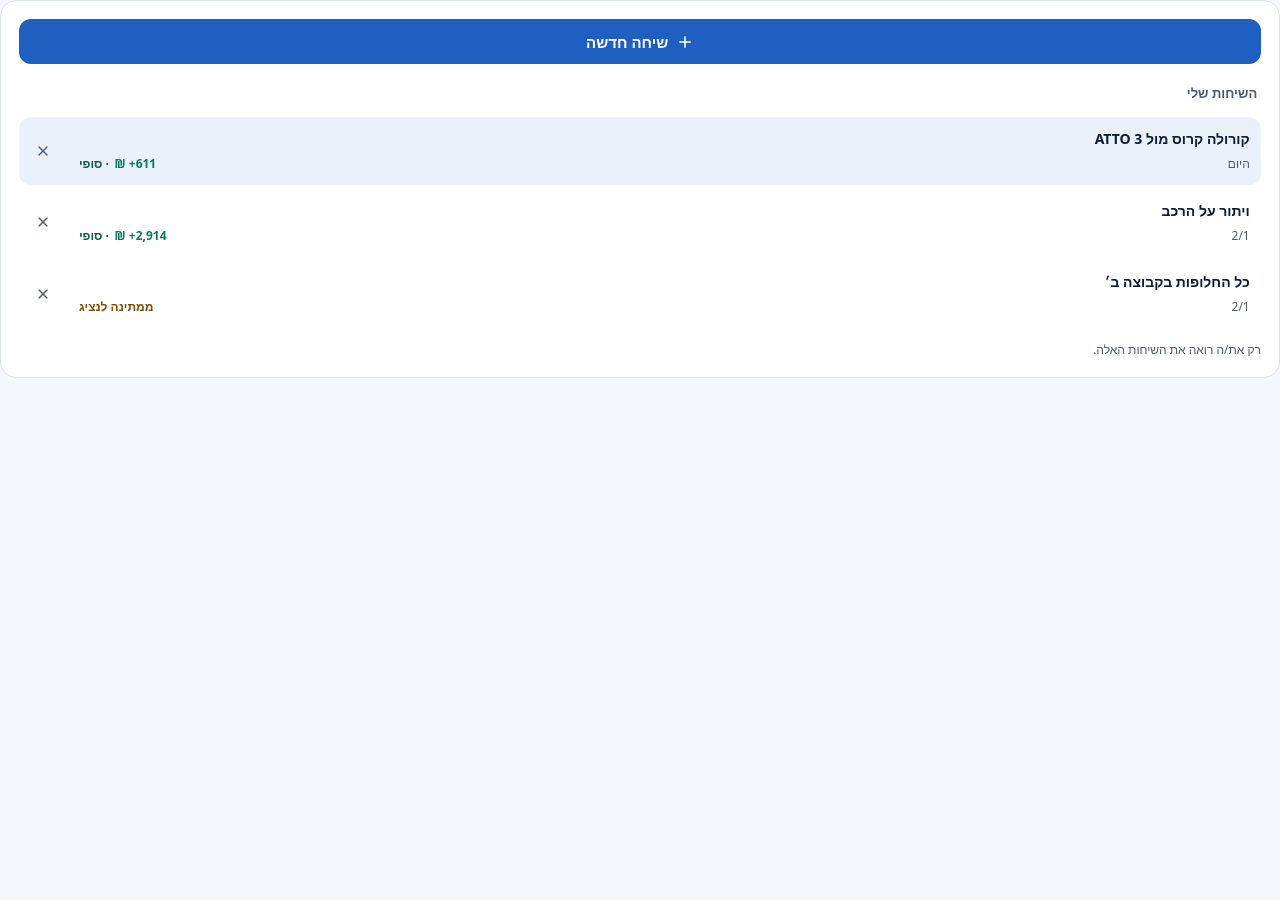
it: the conversation list › keeps the dialog and says so when the delete fails
Click the button named "מחיקת שיחה: ויתור על הרכב" at (43, 222), box 23,202 -> 64,243
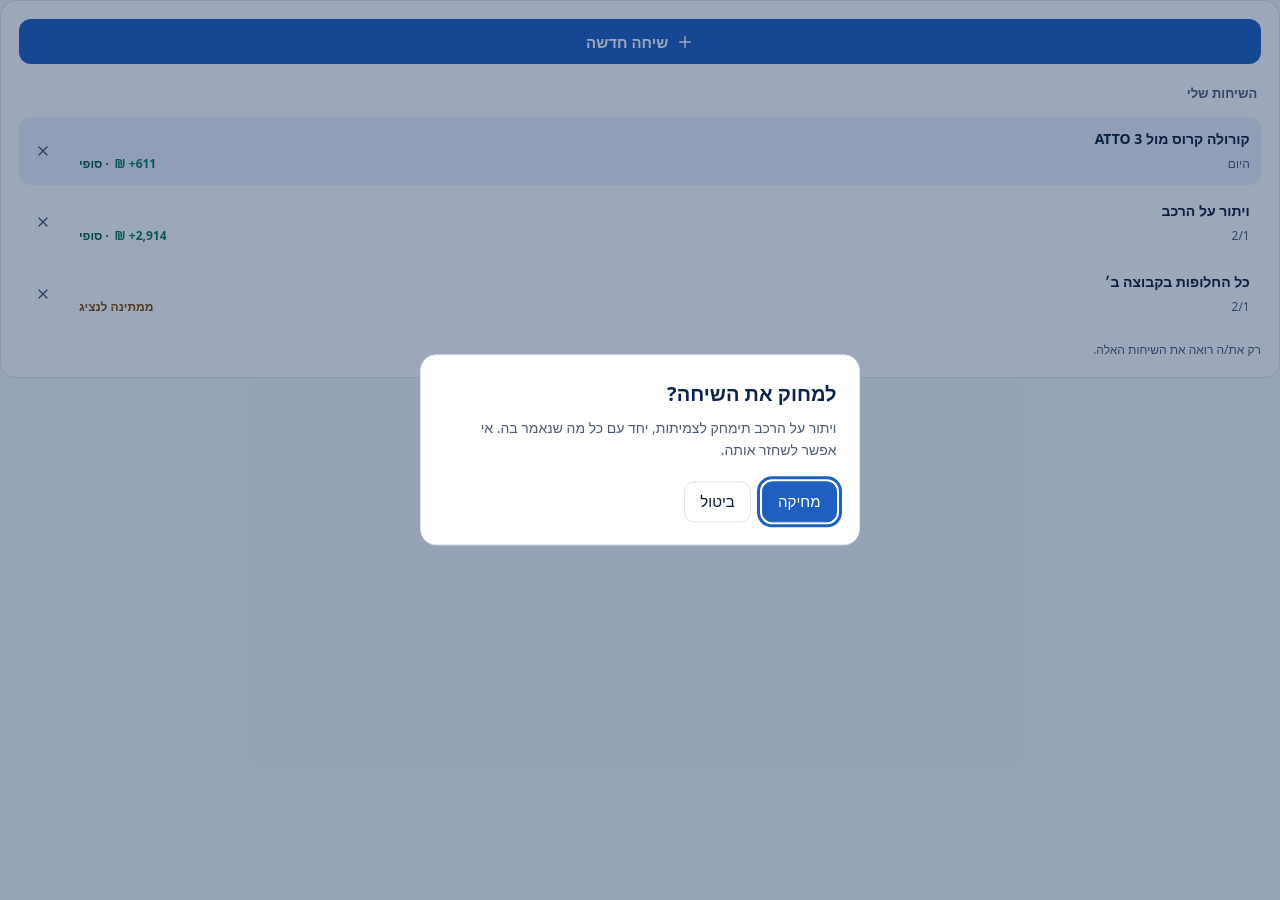
Click the button "מחיקה" at (799, 502), box 762,481 -> 836,522
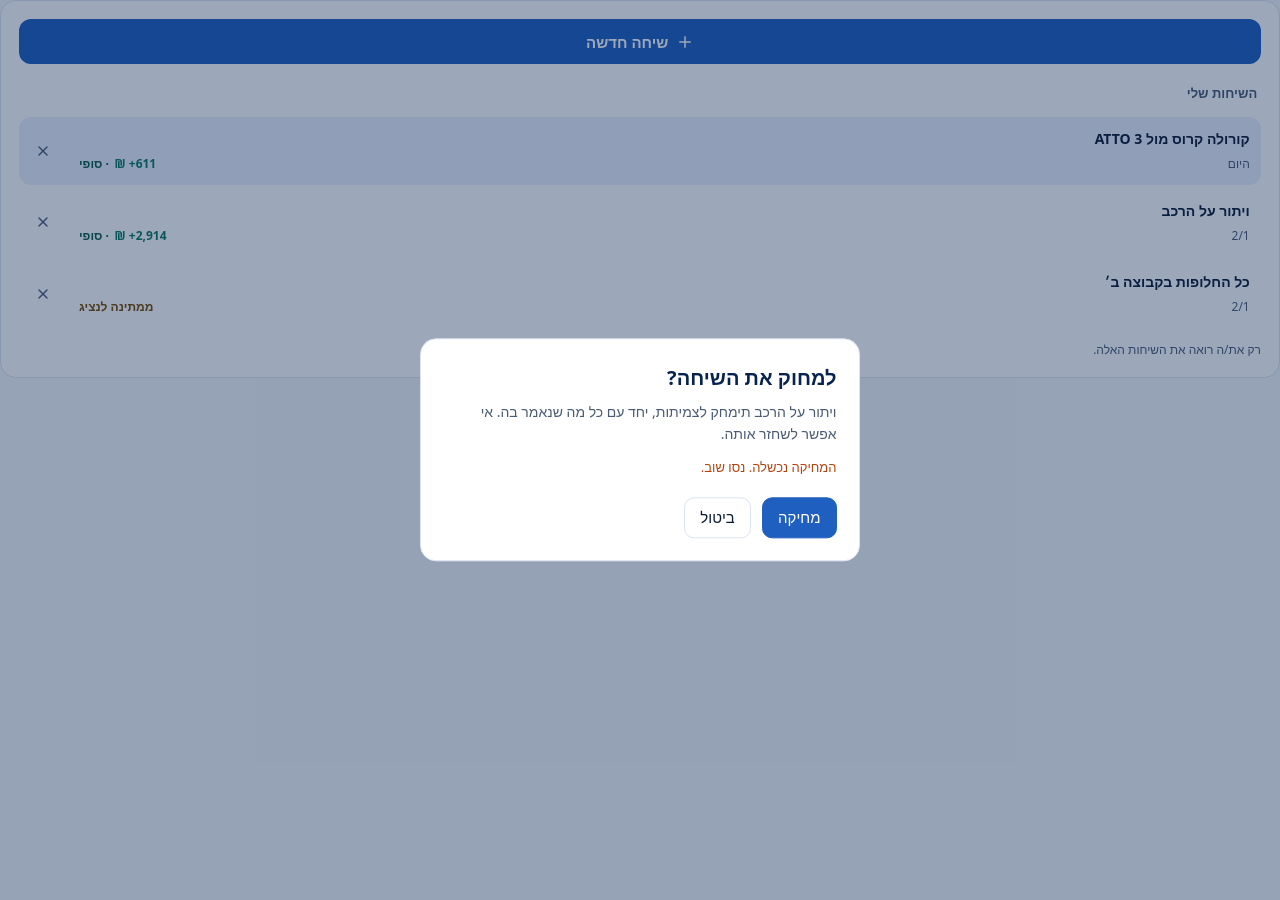
Check: the text "המחיקה נכשלה. נסו שוב." is shown, box 701,458 -> 836,476
